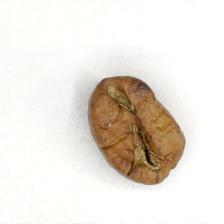NG: (96, 75, 161, 168)
